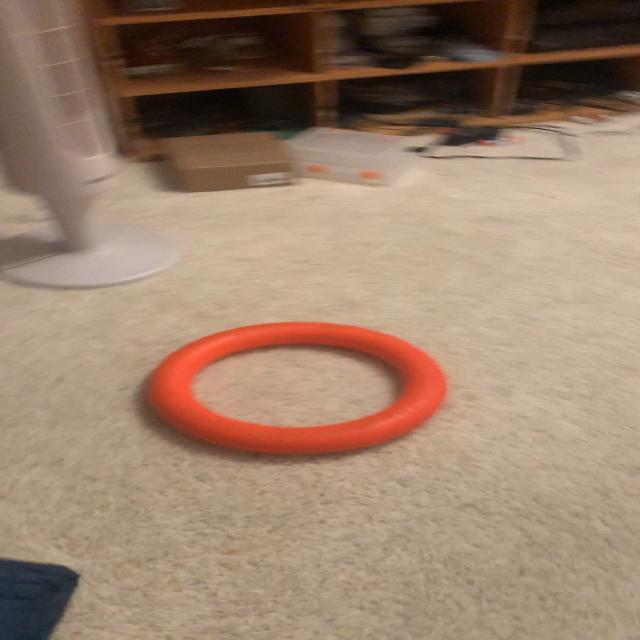notes: (147, 320, 447, 462)
